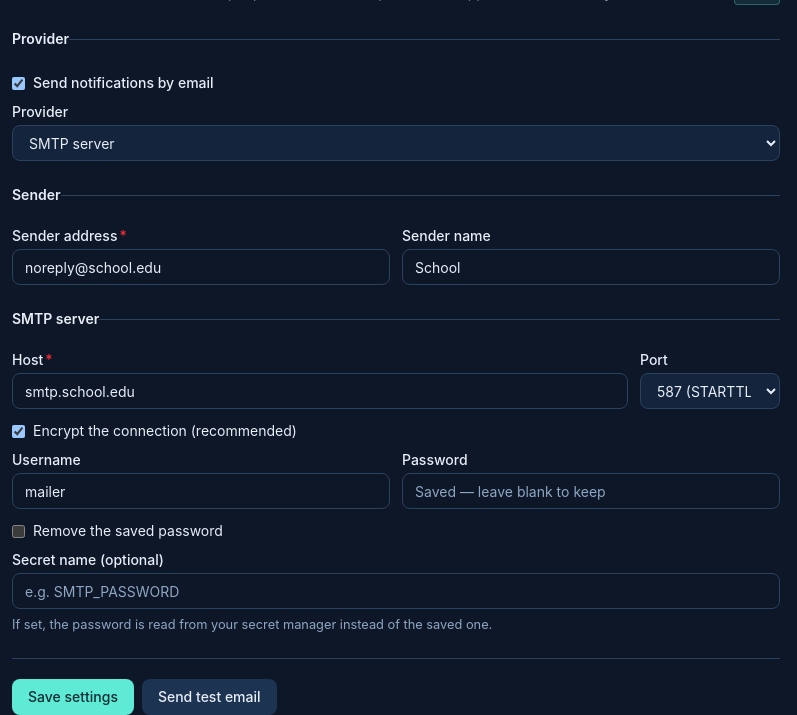
Test: IntegrationsPage › never shows the saved password and lets the admin send a test
(page scrolled)
Expected: the password field labelled "Password" is empty, x1=402 y1=473 x2=780 y2=509
Click the button "Send test email": (209, 697) x1=142 y1=679 x2=276 y2=714
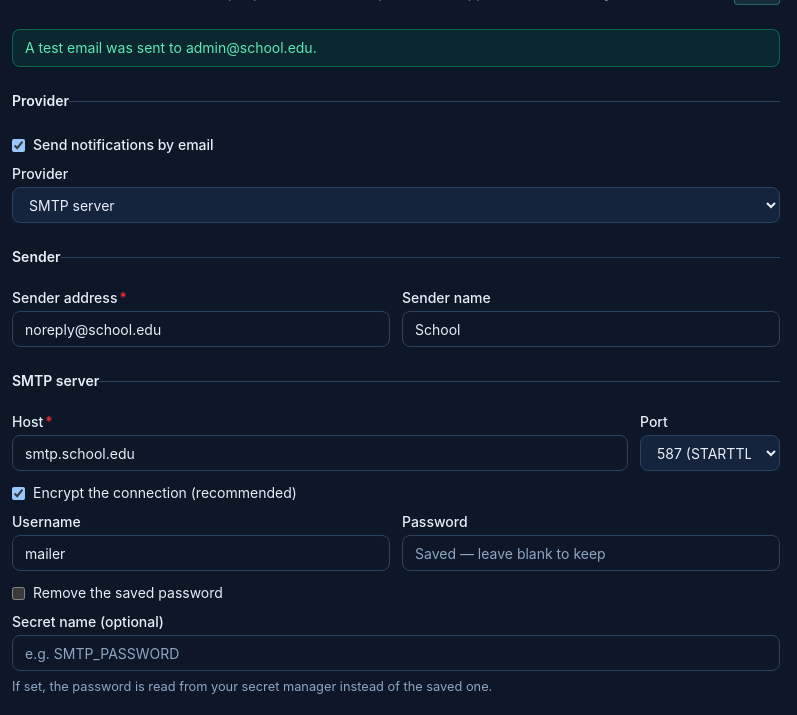
Expected: the text "A test email was sent to admin@school.edu." is shown, x1=12 y1=29 x2=780 y2=67
